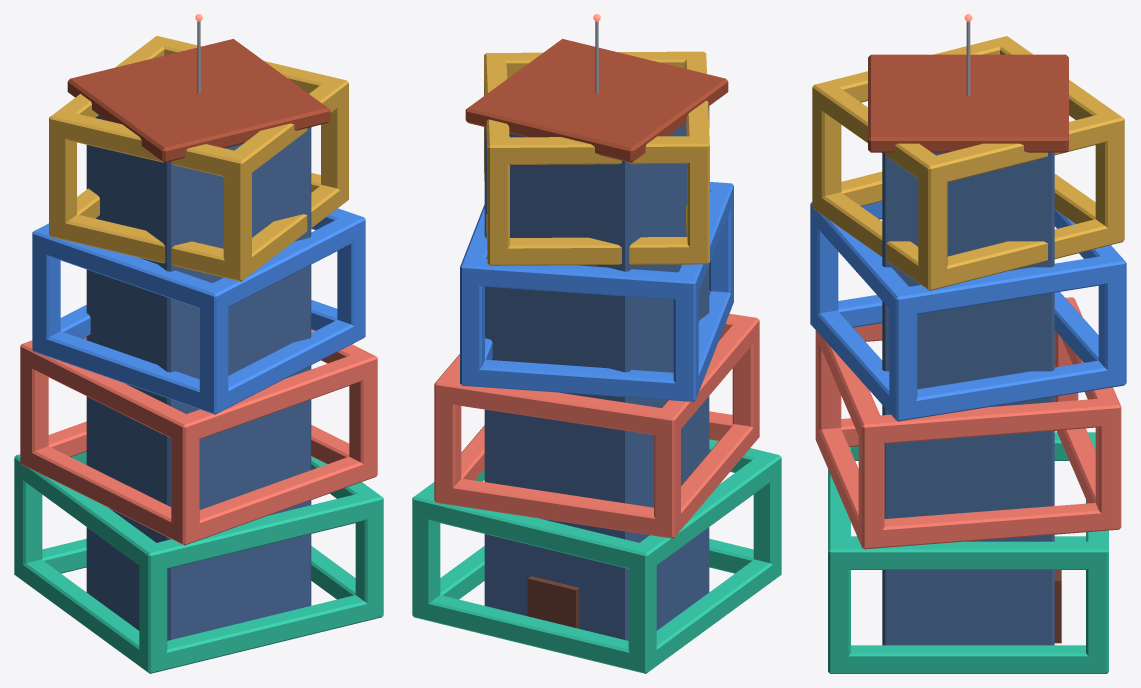
Rendered from bld_d2_d.glb.
3 renders of one model, left to right at view 1: azimuth 30°, elevation 25°; view 2: azimuth 150°, elevation 25°; view 3: azimuth 270°, elevation 25°, orthographic. The views are drawn at different scales.
Visible parts, largest first — view 1: bld_d2_d; view 2: bld_d2_d; view 3: bld_d2_d.
Boxes of the visible parts, x1=… form: bld_d2_d: x1=14, y1=14, x2=383, y2=673; bld_d2_d: x1=412, y1=14, x2=781, y2=673; bld_d2_d: x1=810, y1=14, x2=1126, y2=673.
Bounding box in the file's own units: 11.02 × 23.74 × 11.02.
